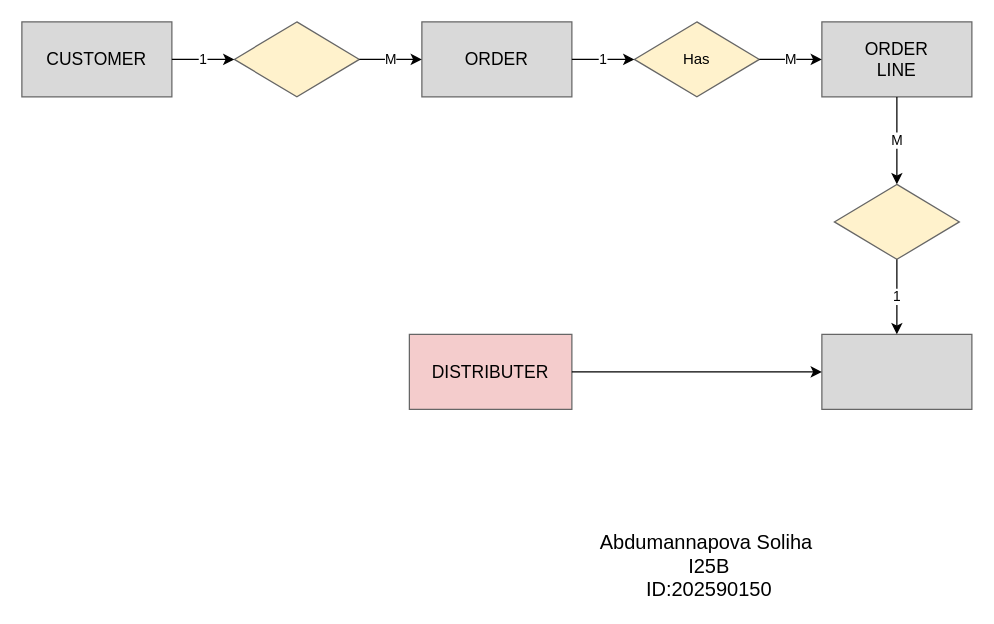
This 994x624 diagram has some shape labels left out. The shapes that lost their labels are listed below. From the top down, each one's centre as x and y in pixels, then its label:
the point at 296,59: Places
the point at 896,221: Contains
the point at 896,371: PRODUCT
